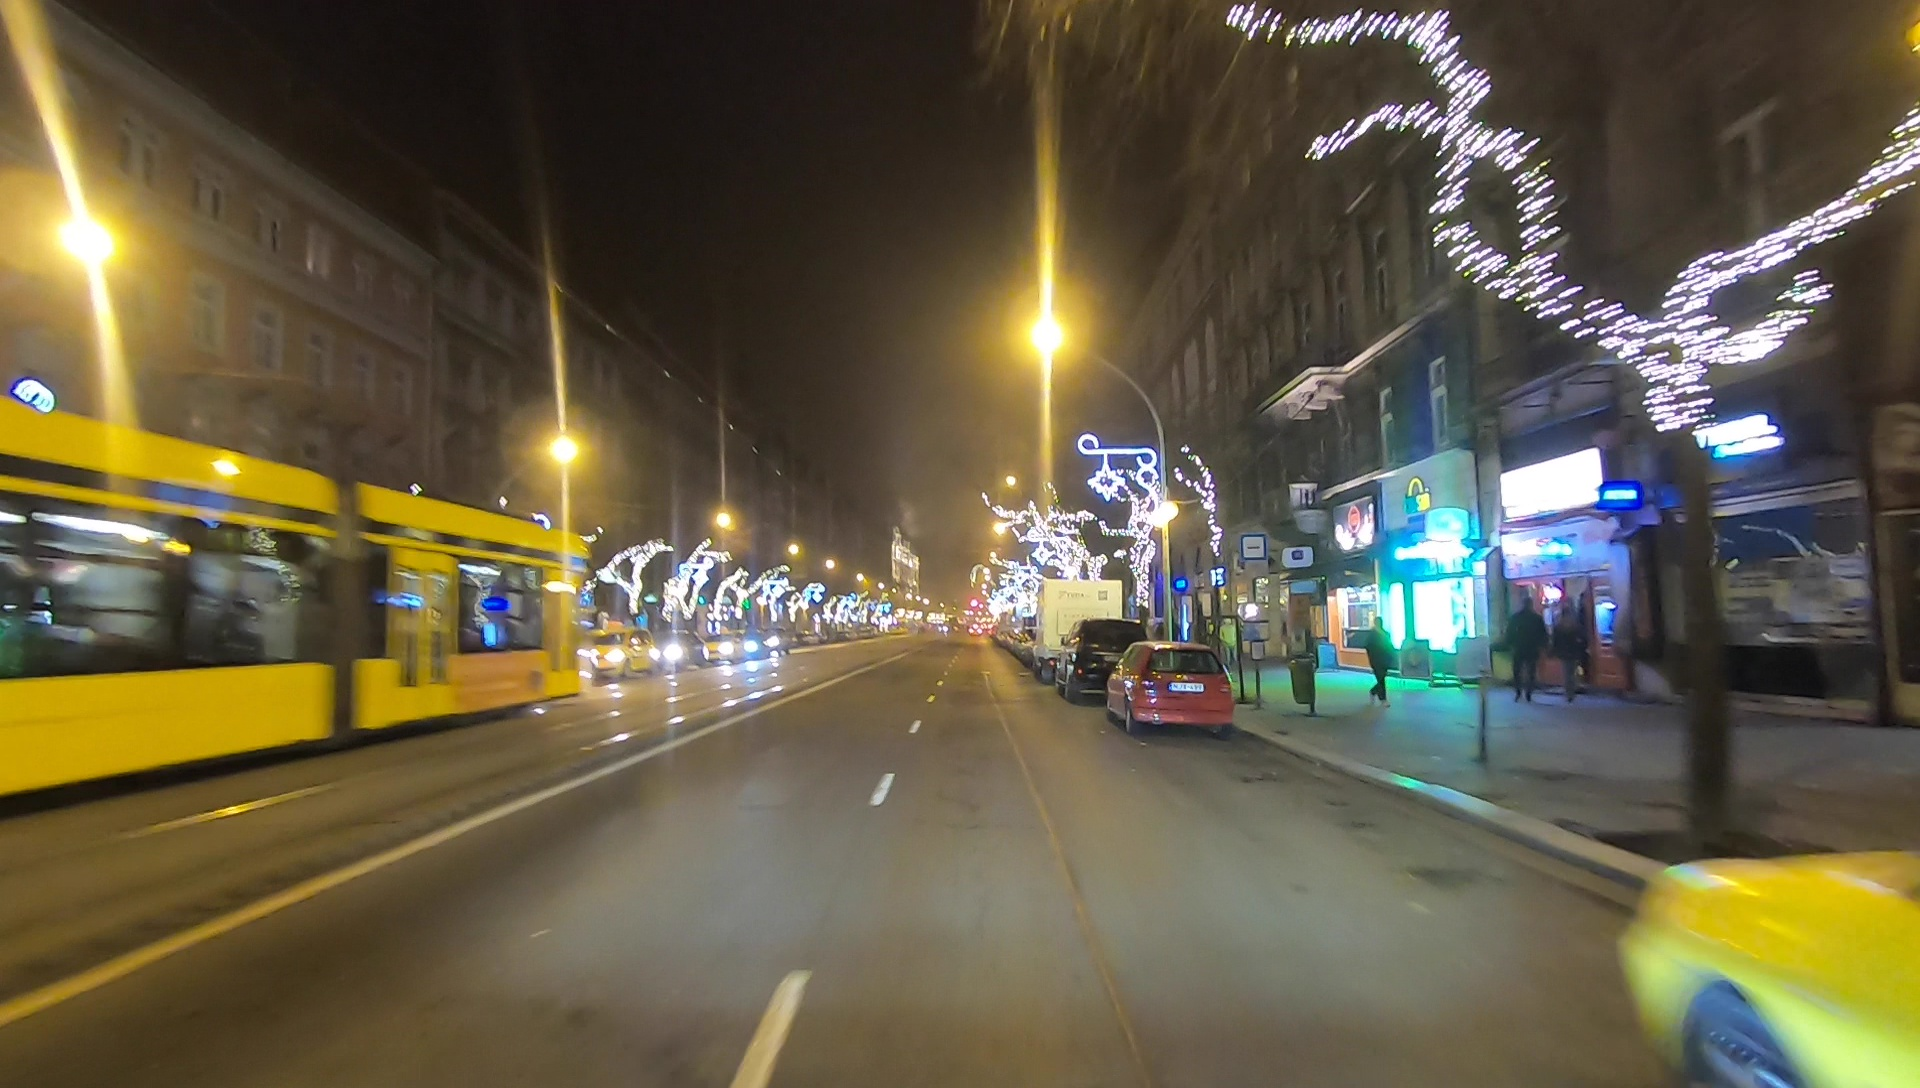person: (1549, 600, 1586, 704), (1504, 599, 1543, 699), (1364, 619, 1399, 710)
